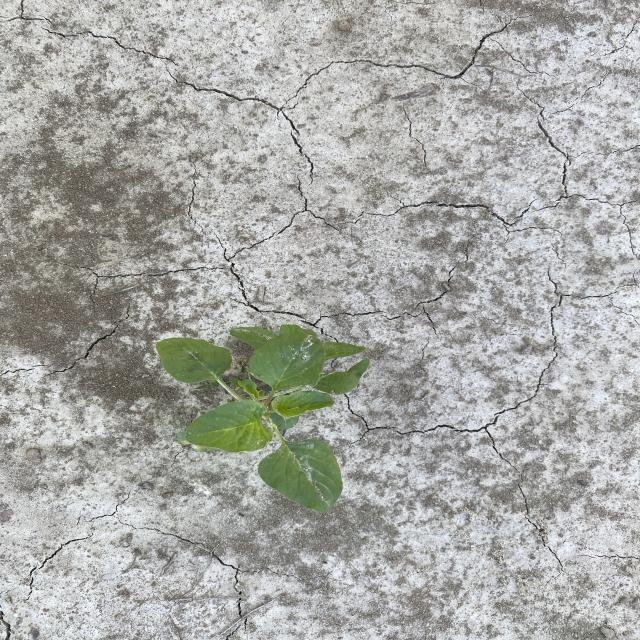PalmerAmaranth: (154, 322, 372, 515)
